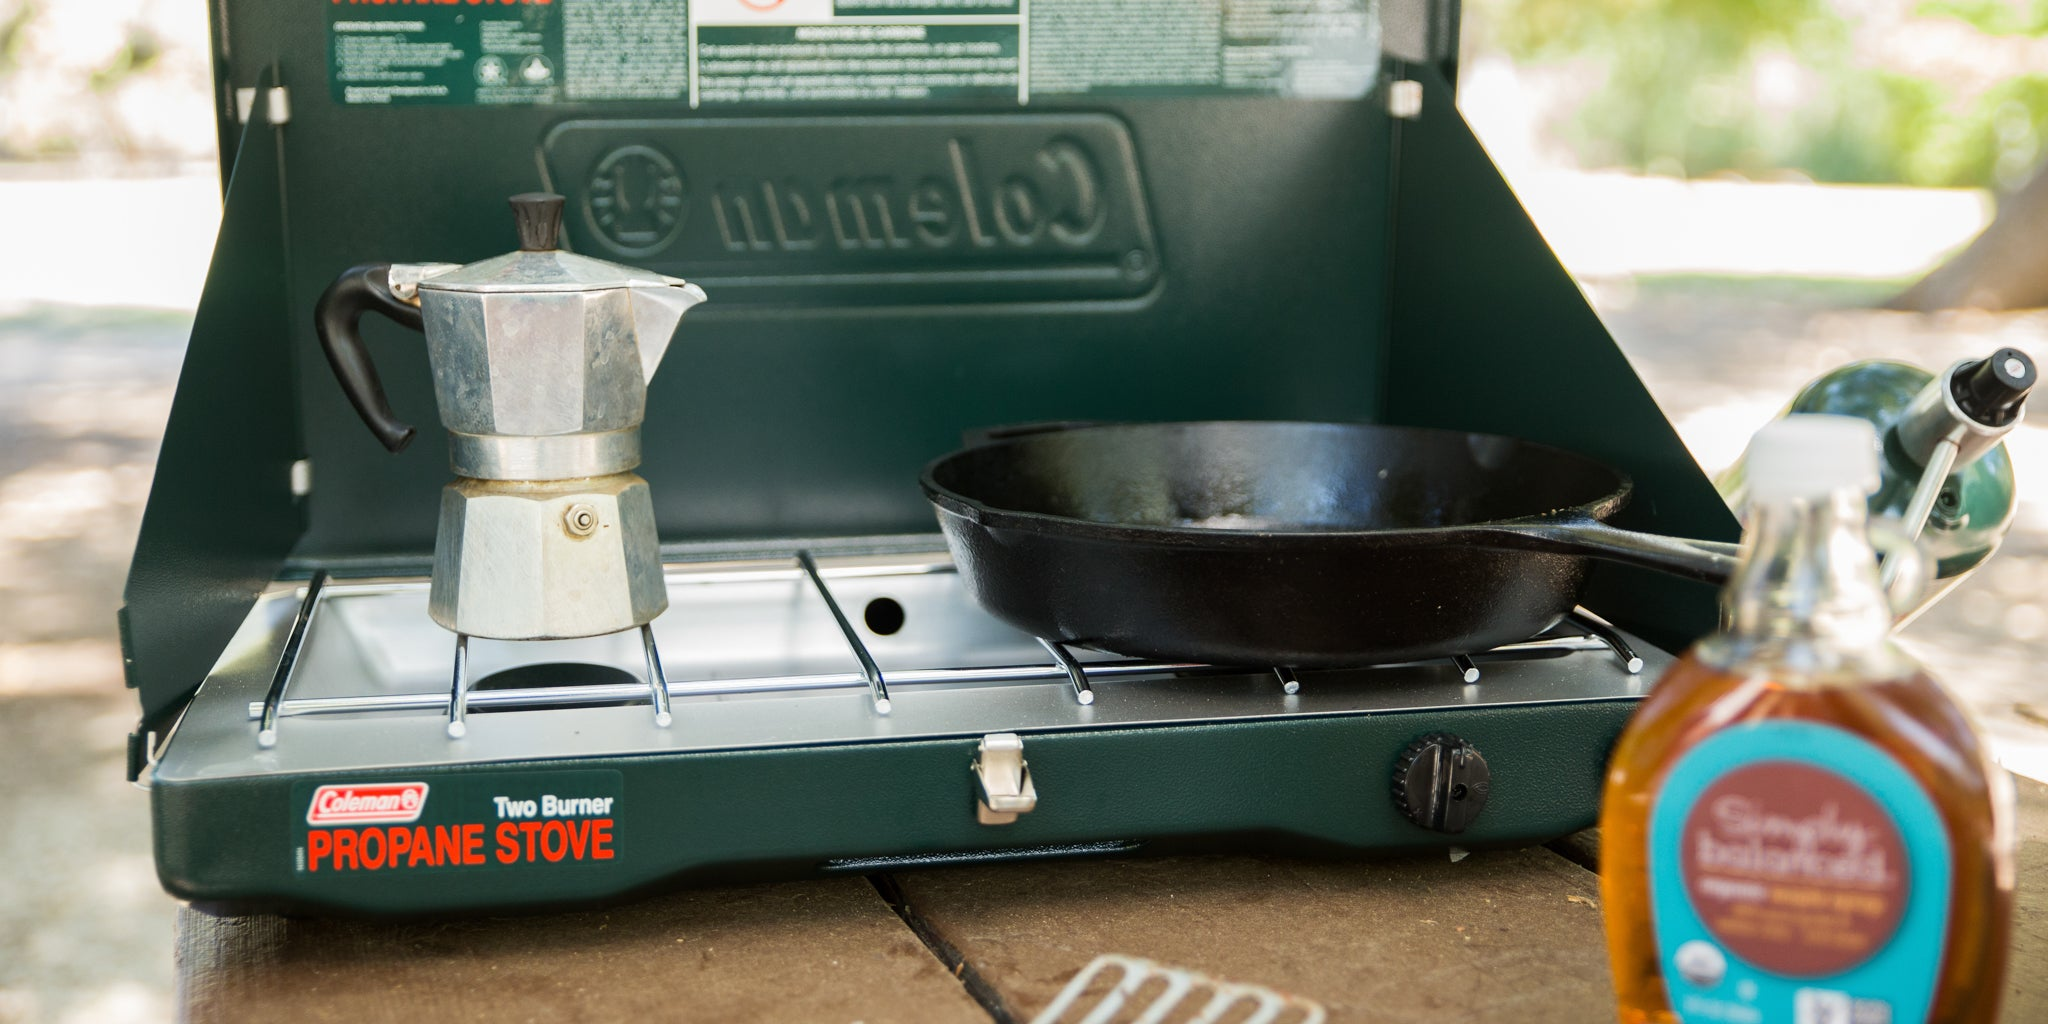stove: (108, 1, 1691, 925)
